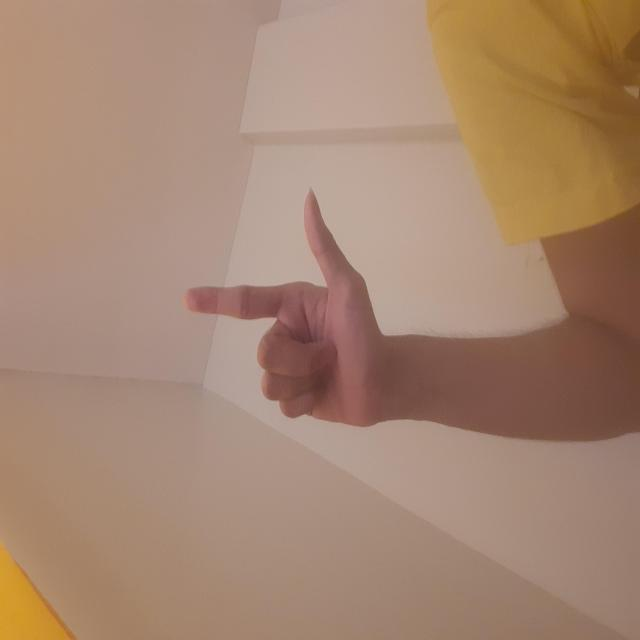L: (211, 184, 450, 379)
